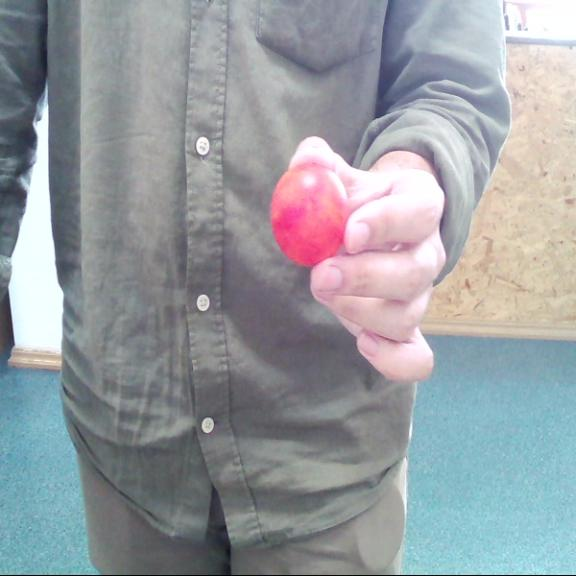ball: (272, 166, 349, 268)
